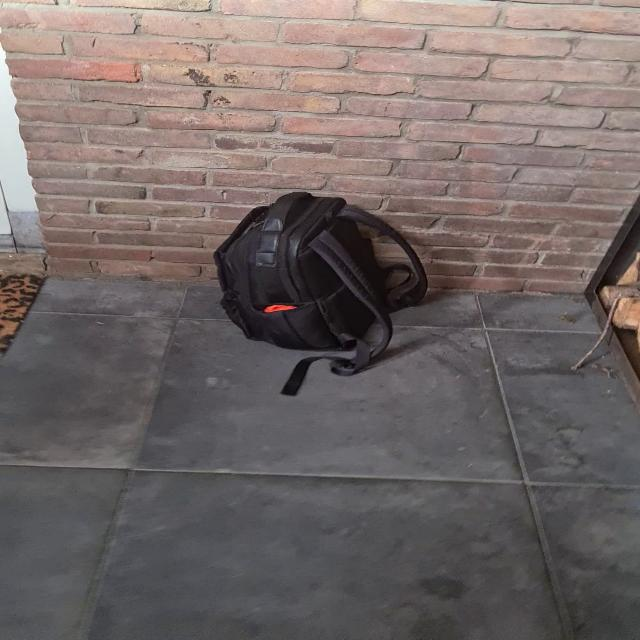backpack: (206, 187, 433, 375)
